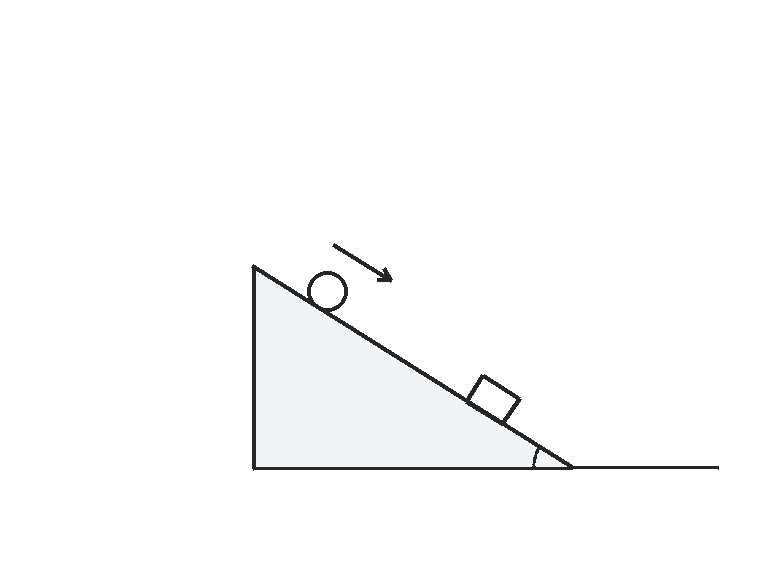ball: (305, 269, 349, 313)
block: (465, 374, 520, 426)
ramp: (250, 266, 575, 470)
